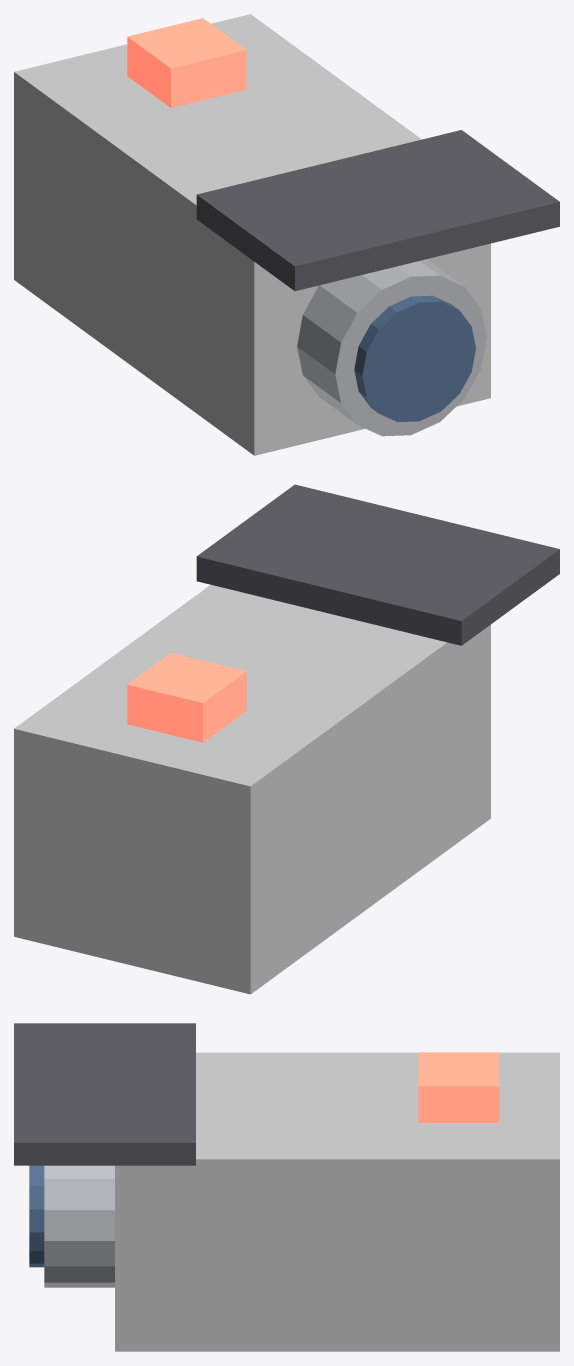
Rendered from camera_head_on.gltf.
3 views of the same model, one above another, from view 1: azimuth 30°, elevation 25°; view 2: azimuth 150°, elevation 25°; view 3: azimuth 270°, elevation 25° (orthographic). The views are drawn at different scales.
Parts seen in each view (by area): view 1: camera_head_on; view 2: camera_head_on; view 3: camera_head_on.
Part boxes in pixels (x1,y1,x2,y2): camera_head_on: (14, 14, 559, 455); camera_head_on: (14, 484, 559, 994); camera_head_on: (14, 1023, 559, 1351).
Bounding box in the file's own units: 0.28 × 0.25 × 0.54.
